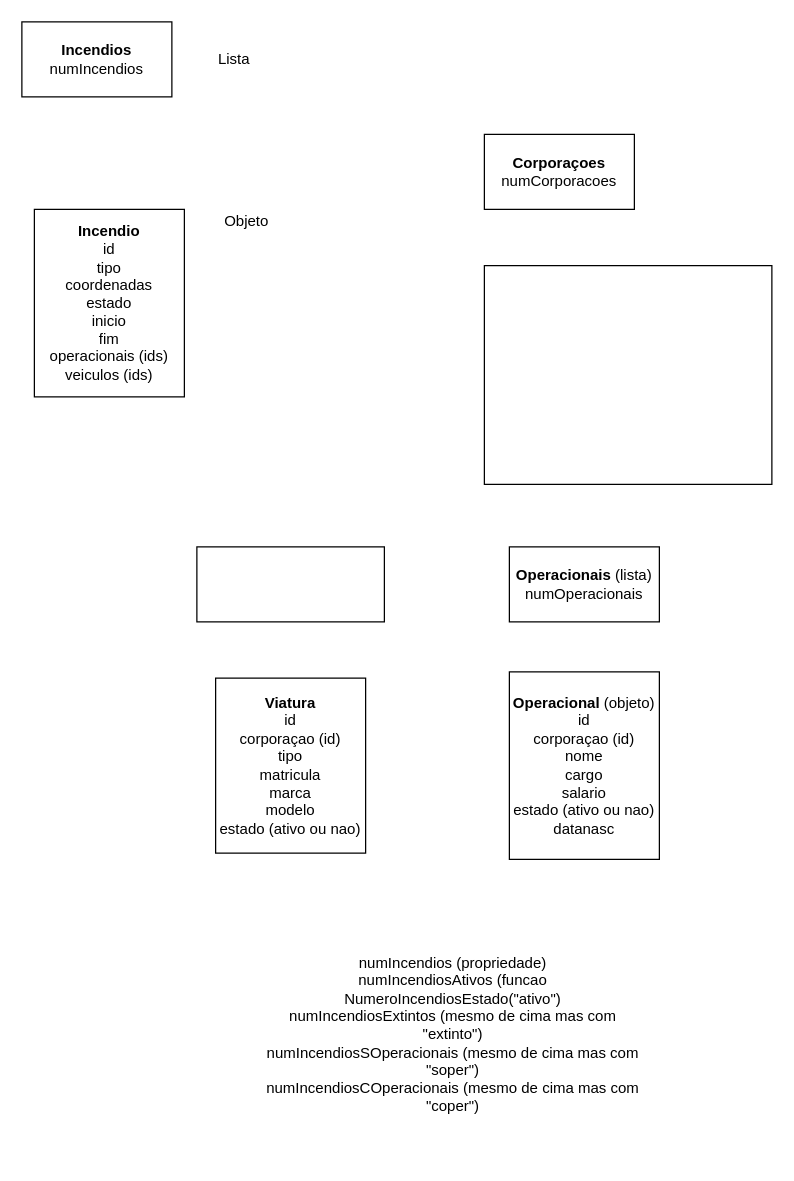
Image size: 794x1181. Some labels were removed from this diagram. Here are the shapes that lost their labels. From the top down, the centre of each, then its label:
At pixel 627 374: "Corporaçao id freguesia tipo (bombeiros vol, bombeiros sap)".
At pixel 290 584: "Viaturas (lista) numViaturas".
